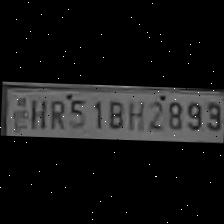1: (86, 96, 104, 131)
2: (144, 97, 164, 132)
5: (64, 95, 86, 130)
8: (164, 96, 182, 132)
9: (184, 97, 202, 132)
B: (102, 96, 124, 130)
H: (124, 96, 144, 132), (27, 96, 45, 130)
R: (44, 96, 64, 130)
